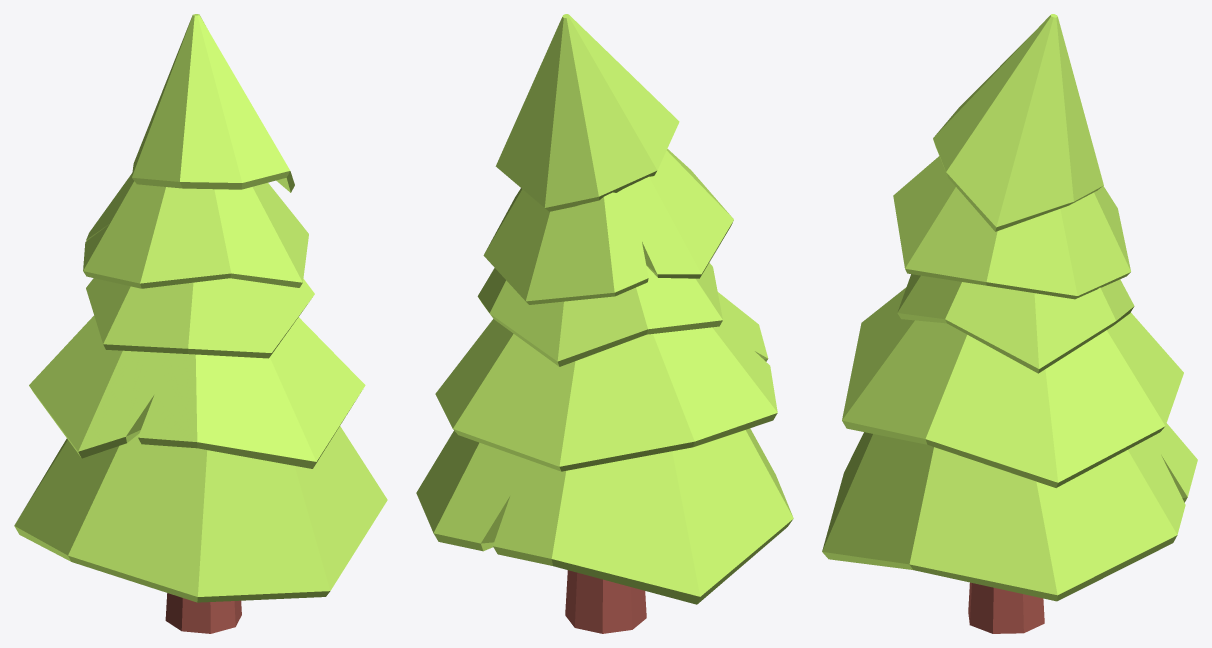
Rendered from Tree2_small_autumn.FBX.
3 renders of one model, left to right at view 1: azimuth 30°, elevation 25°; view 2: azimuth 150°, elevation 25°; view 3: azimuth 270°, elevation 25°, orthographic. The views are drawn at different scales.
Visible parts, largest first — view 1: Tree 2 small.003; view 2: Tree 2 small.003; view 3: Tree 2 small.003.
Boxes of the visible parts, bbox=[...] form: Tree 2 small.003: bbox=[14, 14, 387, 633]; Tree 2 small.003: bbox=[416, 14, 793, 633]; Tree 2 small.003: bbox=[822, 14, 1197, 633].
Size of the model in its own units: 1.52 by 2.71 by 1.51.
